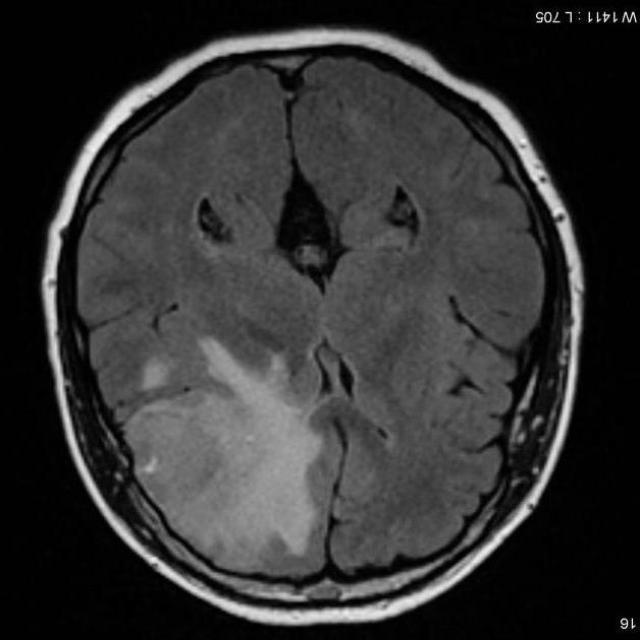brain tumor: (116, 335, 322, 572)
